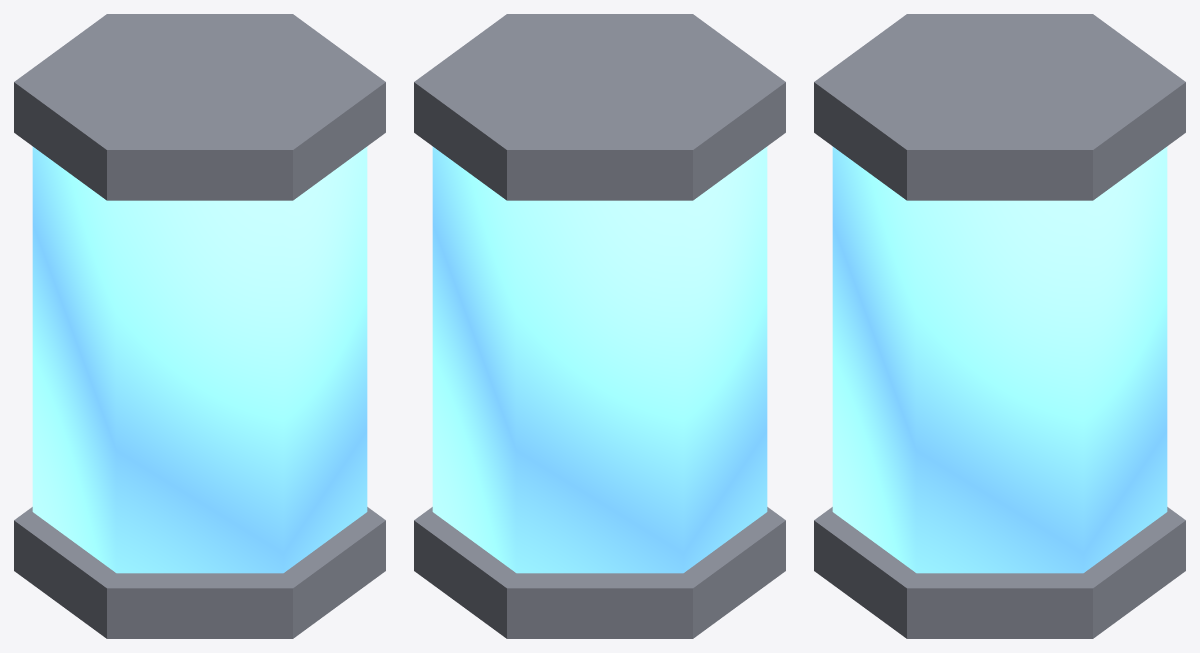
File: compute_prompt.glb
3 views of the same model, side by side, from view 1: azimuth 30°, elevation 25°; view 2: azimuth 150°, elevation 25°; view 3: azimuth 270°, elevation 25° (orthographic).
Parts seen in each view (by area): view 1: CellBody, Cap_0.26, Cap_0.0; view 2: CellBody, Cap_0.26, Cap_0.0; view 3: CellBody, Cap_0.26, Cap_0.0.
Part boxes in pixels (bbox=[...]): CellBody: bbox=[32, 146, 367, 573]; Cap_0.26: bbox=[14, 14, 385, 200]; Cap_0.0: bbox=[14, 507, 385, 638]; CellBody: bbox=[432, 146, 767, 573]; Cap_0.26: bbox=[414, 14, 785, 200]; Cap_0.0: bbox=[414, 507, 785, 638]; CellBody: bbox=[832, 146, 1167, 573]; Cap_0.26: bbox=[814, 14, 1185, 200]; Cap_0.0: bbox=[814, 507, 1185, 638].
Size of the model in its own units: 0.1732 by 0.29 by 0.2.
